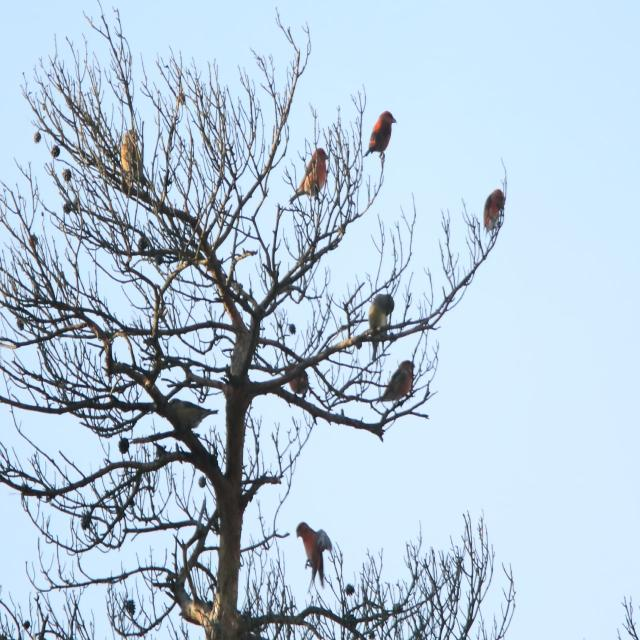bird: (298, 525, 338, 584), (289, 150, 329, 207), (366, 285, 398, 351), (166, 400, 222, 437), (383, 359, 422, 409), (113, 127, 143, 188), (482, 188, 508, 257), (366, 112, 399, 161), (285, 363, 309, 406)
